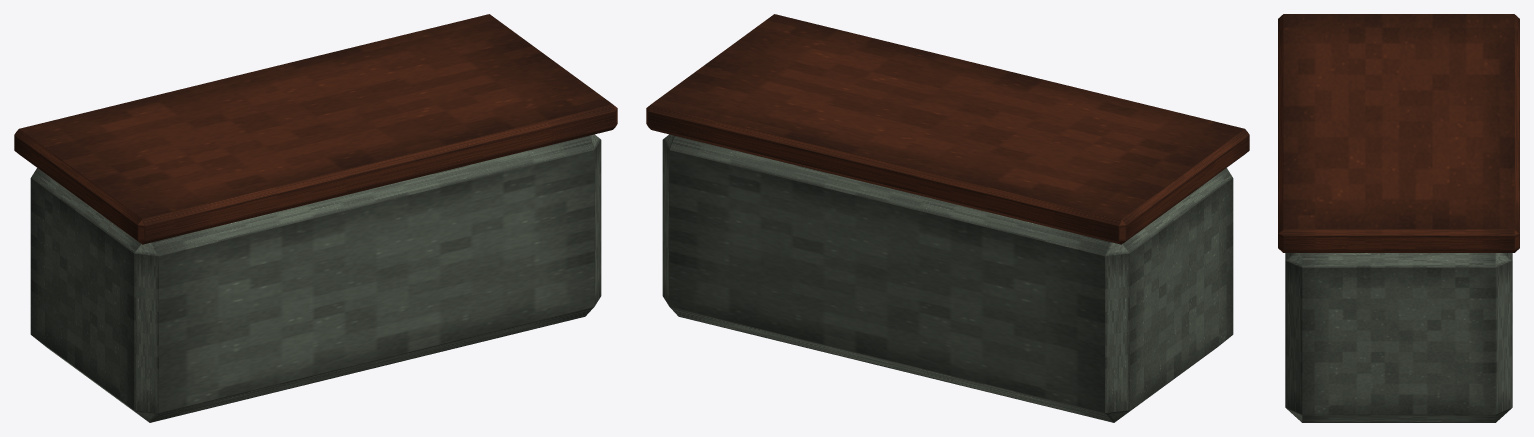
Rendered from THStage_FindSupport_06.fbx.
3 views of the same model, side by side, from view 1: azimuth 30°, elevation 25°; view 2: azimuth 150°, elevation 25°; view 3: azimuth 270°, elevation 25° (orthographic). The views are drawn at different scales.
Visible parts, largest first — view 1: THStage_FindSupport_06.009; view 2: THStage_FindSupport_06.009; view 3: THStage_FindSupport_06.009.
Boxes of the visible parts, x1,y1,x2,y2 form: THStage_FindSupport_06.009: [14, 14, 617, 422]; THStage_FindSupport_06.009: [646, 14, 1249, 422]; THStage_FindSupport_06.009: [1278, 14, 1519, 422].
Size of the model in its own units: 0.548 by 0.235 by 0.255.
Materials: 1 (1 with a texture image).
